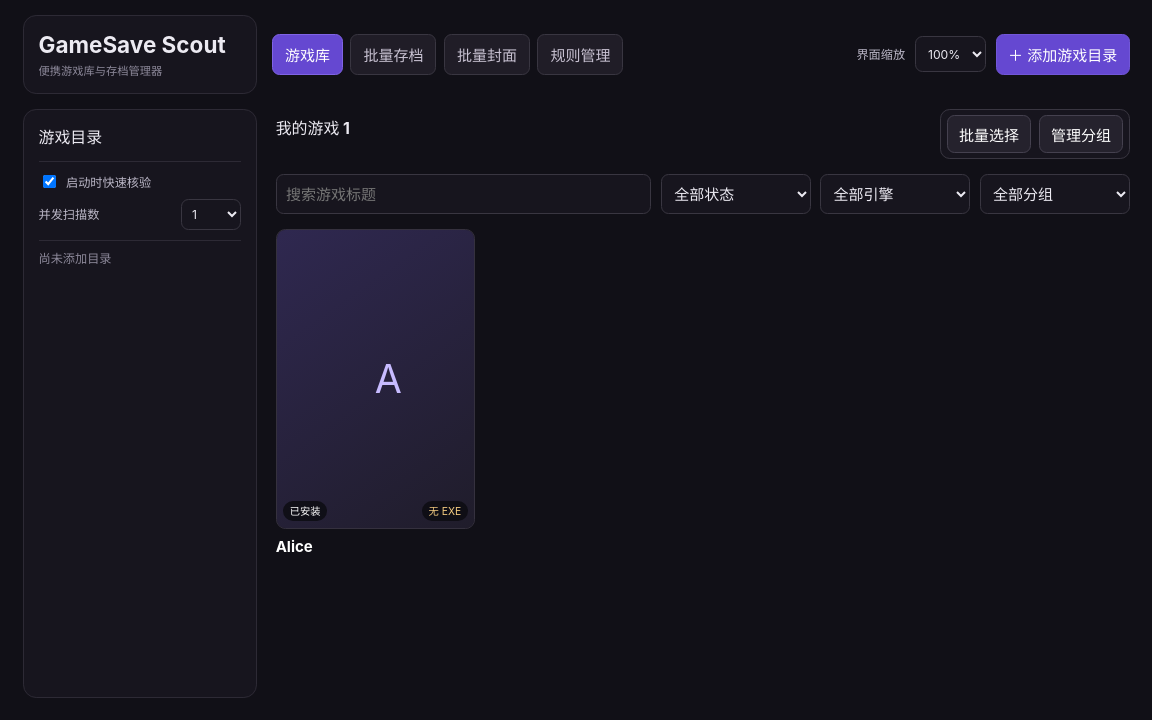
Test: App › cancels batch mode and refreshes when a selected game status changed
Click the button with test id "enter-batch-mode" at (989, 134), box [947,115,1031,153]
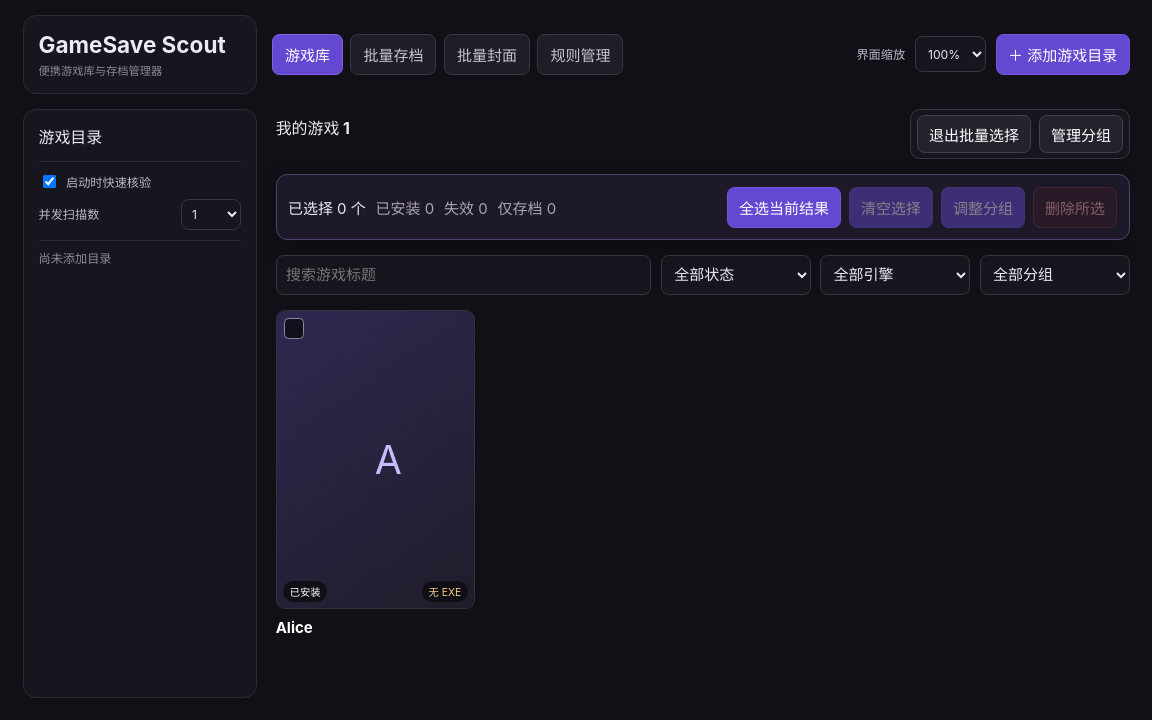
Click the button with test id "game-card-installed-1" at (375, 473), box [276,310,475,637]
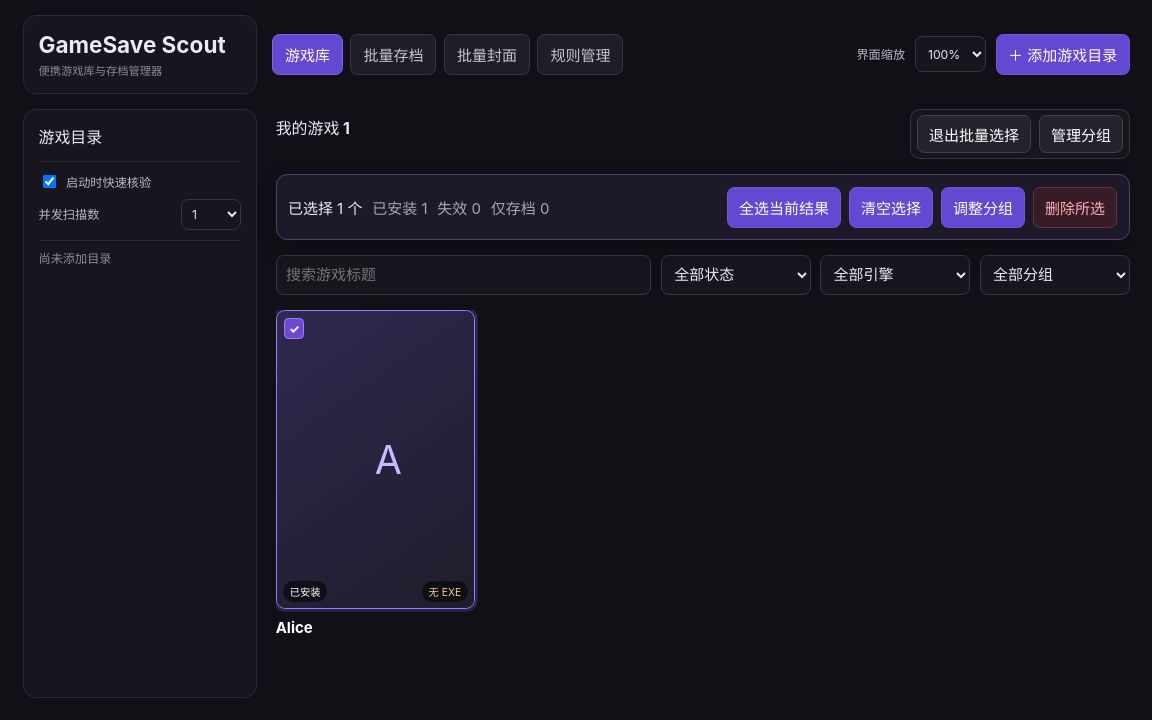
Click the button with test id "batch-delete" at (1075, 207), box [1033,186,1117,228]
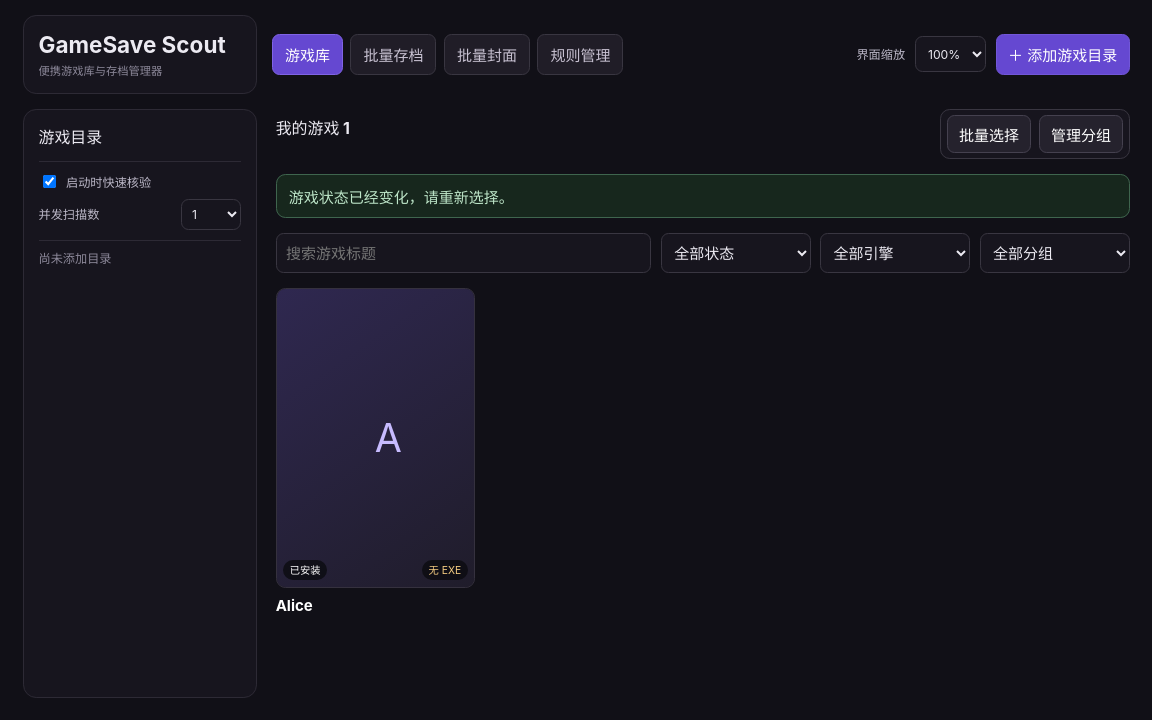
Now the message with test id "batch-result" reads "游戏状态已经变化，请重新选择。", box [289,188,514,207]
